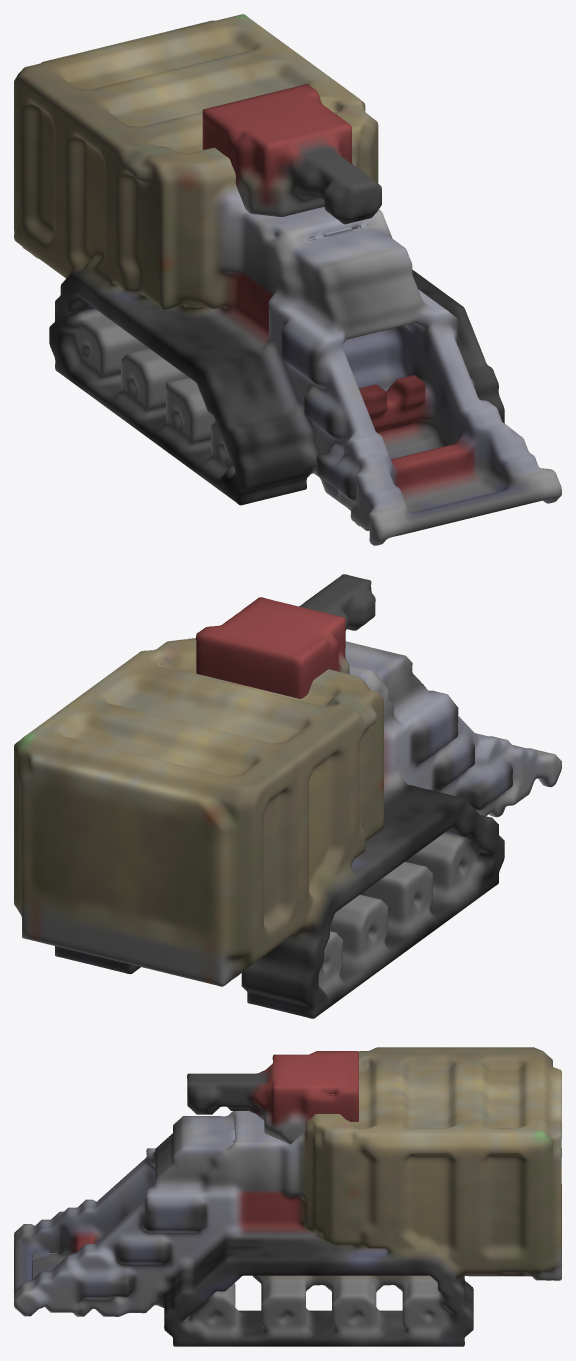
Rendered from war_miner.glb.
3 renders of one model, top to bottom at view 1: azimuth 30°, elevation 25°; view 2: azimuth 150°, elevation 25°; view 3: azimuth 270°, elevation 25°, orthographic. The views are drawn at different scales.
Parts seen in each view (by area): view 1: war_miner; view 2: war_miner; view 3: war_miner.
Boxes of the visible parts, left/top/right/bottom form: war_miner: left=14, top=14, right=561, bottom=545; war_miner: left=14, top=574, right=561, bottom=1018; war_miner: left=14, top=1047, right=561, bottom=1346.
Size of the model in its own units: 2.21 by 2.37 by 5.16.
